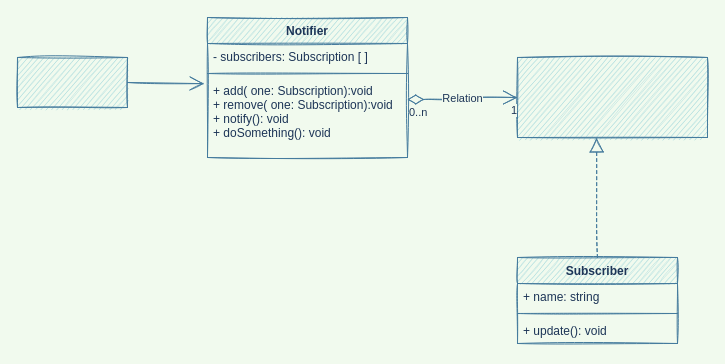
The diagram is 725 pixels wide and 364 high, and some of its shapes have lost their labels. The centre of each missing label's shape, as x and y in pixels:
<<Interface>> Subscription + update(): void: the point at 612,97
Client: the point at 72,82
